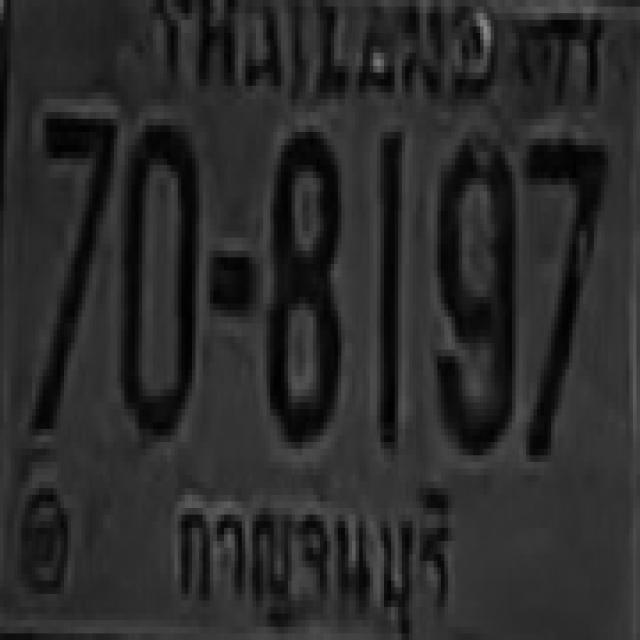0: (118, 122, 196, 432)
1: (377, 129, 398, 445)
7: (522, 132, 604, 455), (34, 109, 112, 425)
8: (264, 131, 339, 441)
9: (433, 136, 513, 454)
Kanchanaburi: (167, 471, 458, 640)
